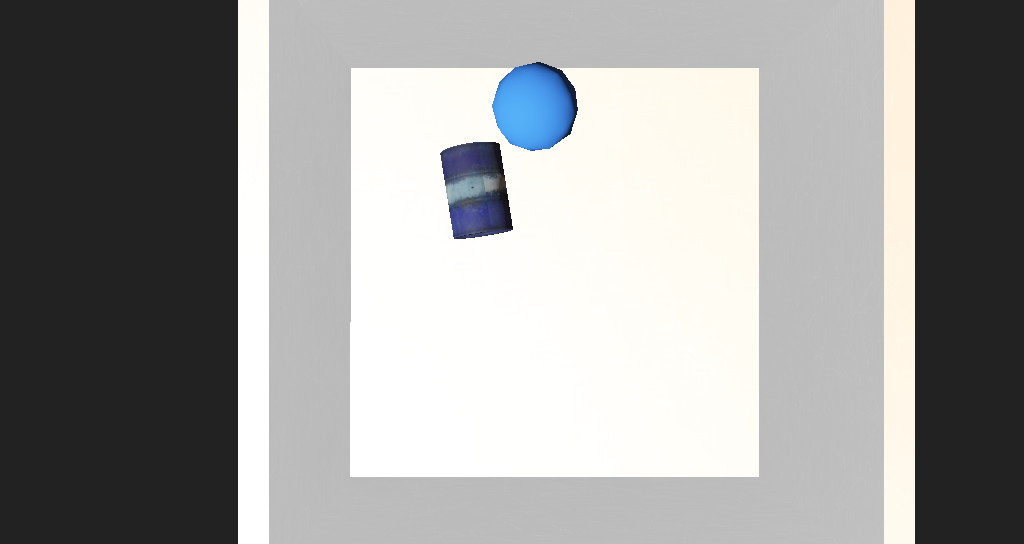cone: (418, 203, 472, 255)
cylinder: (232, 422, 347, 523)
sphere: (461, 165, 522, 208)
